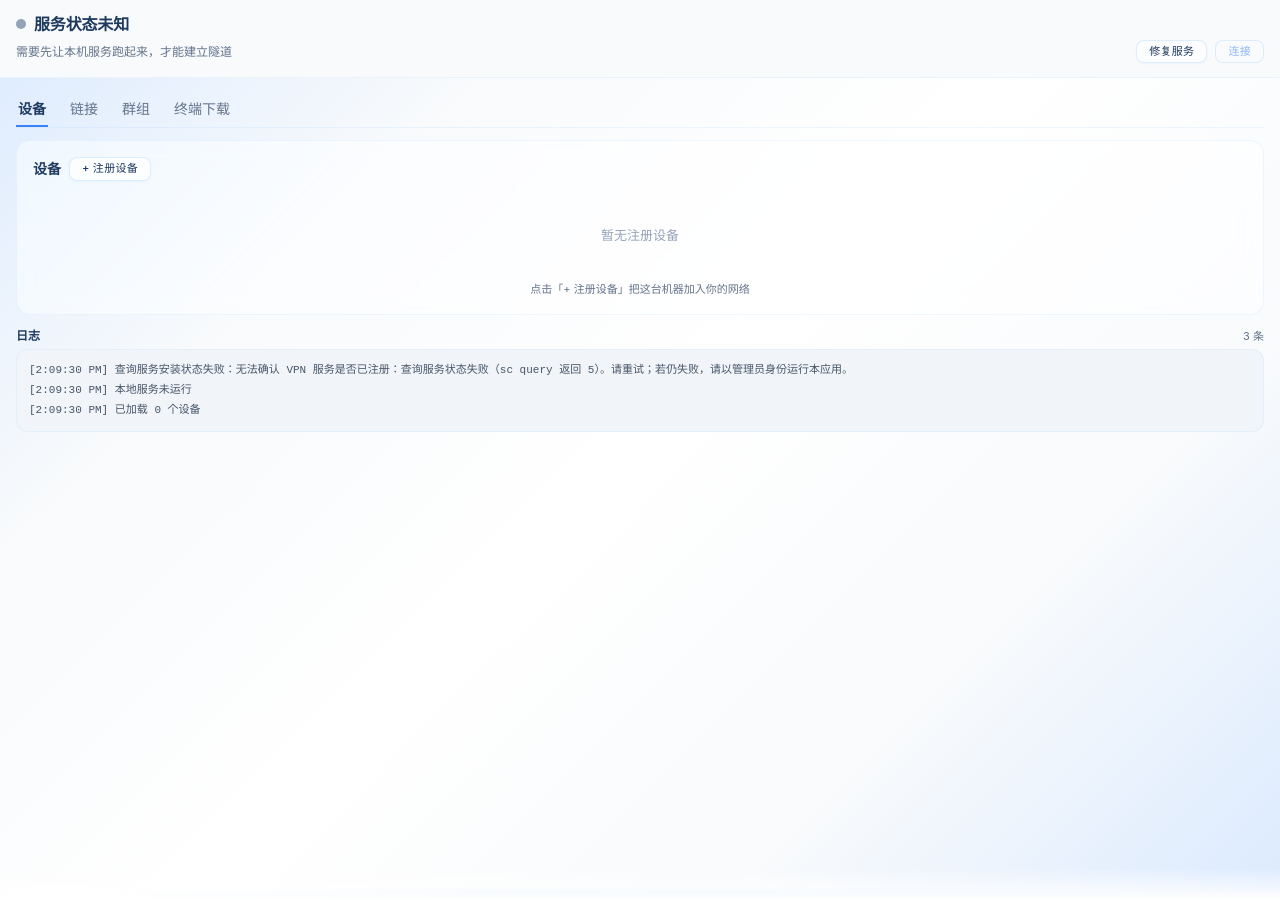
HuanvaeGuardPage (Windows) › 查询失败 + 退避耗尽：下一步说的是「没能确认」，不是「注册未完成」也不是「已注册但没起来」
Click the button "修复服务".
click(1172, 52)  # box [1136, 40, 1207, 63]
Wait 7500 ms
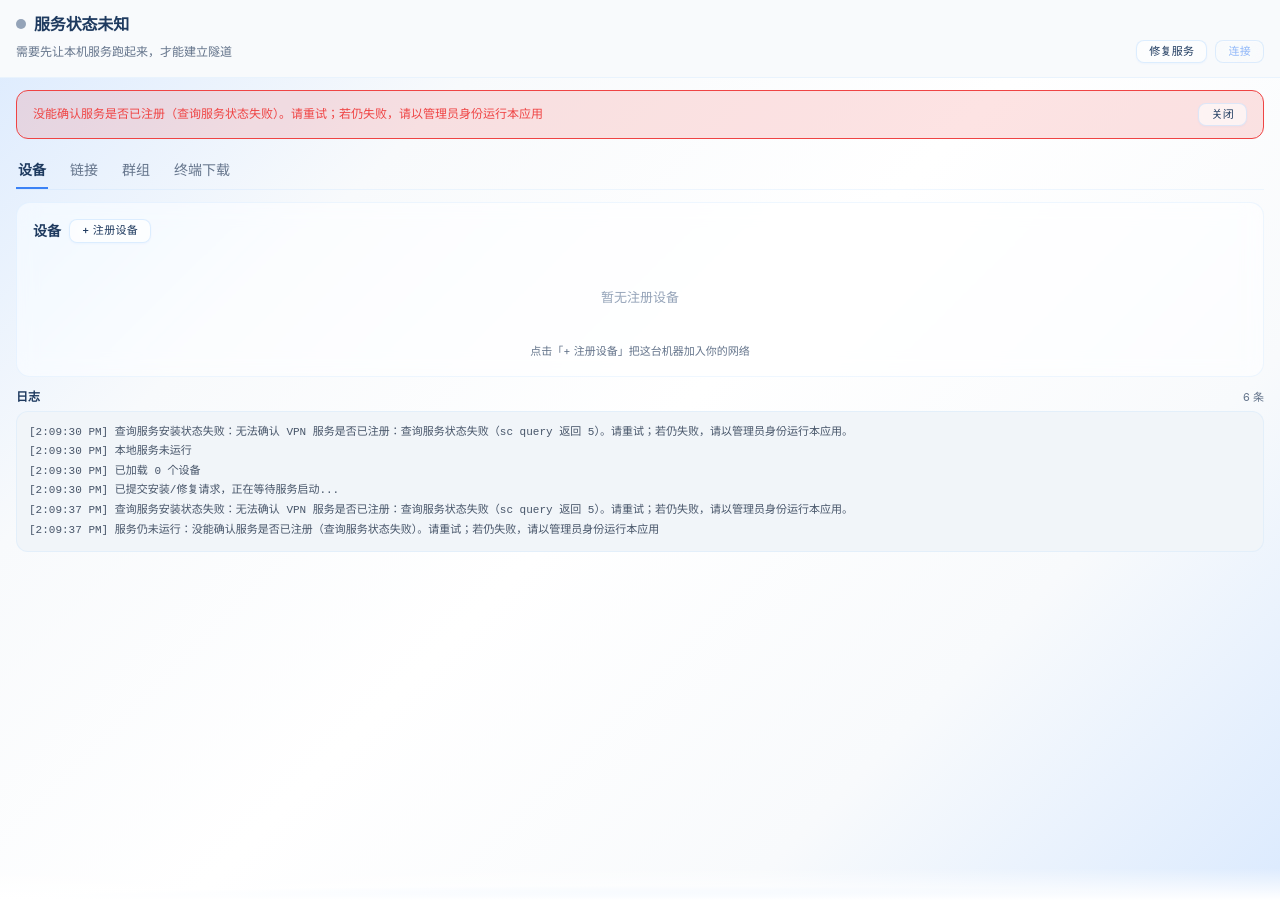
Result: the text "没能确认服务是否已注册（查询服务状态失败）。请重试；若仍失败，请以管理员身份运行本应用" is shown at [33, 106, 543, 121]
